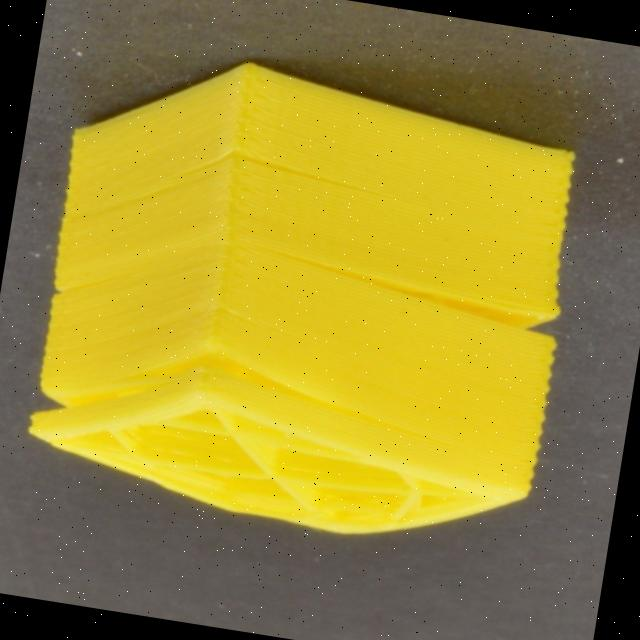cracks: (303, 239, 581, 363), (111, 306, 342, 416), (156, 120, 378, 199)
